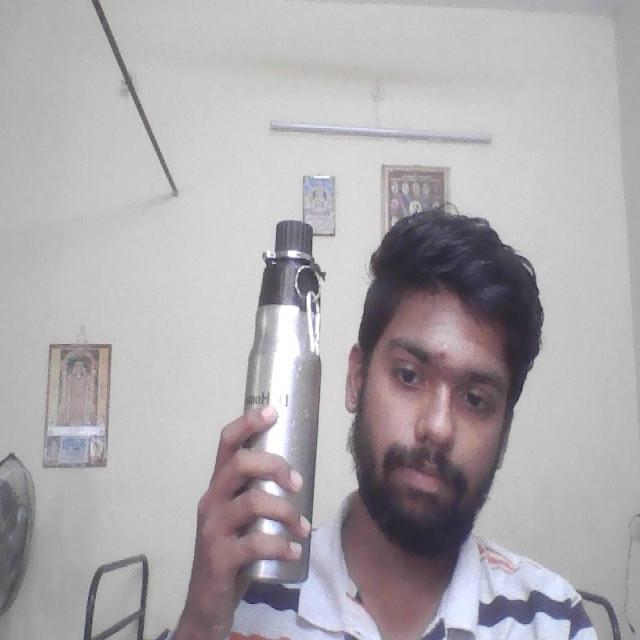Drinking: (233, 210, 329, 609)
